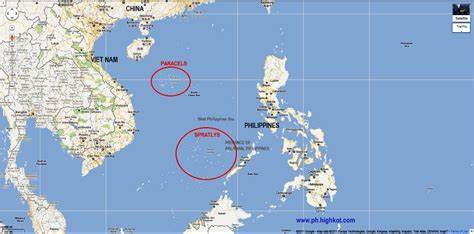Island: (172, 126, 238, 181), (151, 58, 193, 97)
